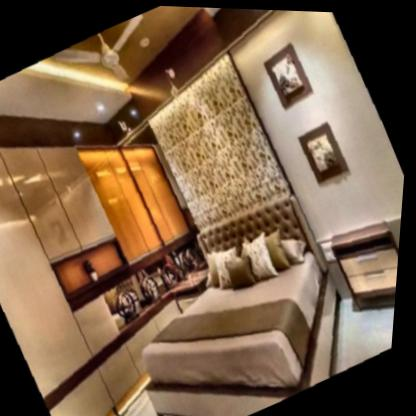Bed: (97, 177, 376, 416)
Frame: (252, 33, 328, 115), (290, 109, 364, 190)
Nightstand: (323, 200, 405, 328)
